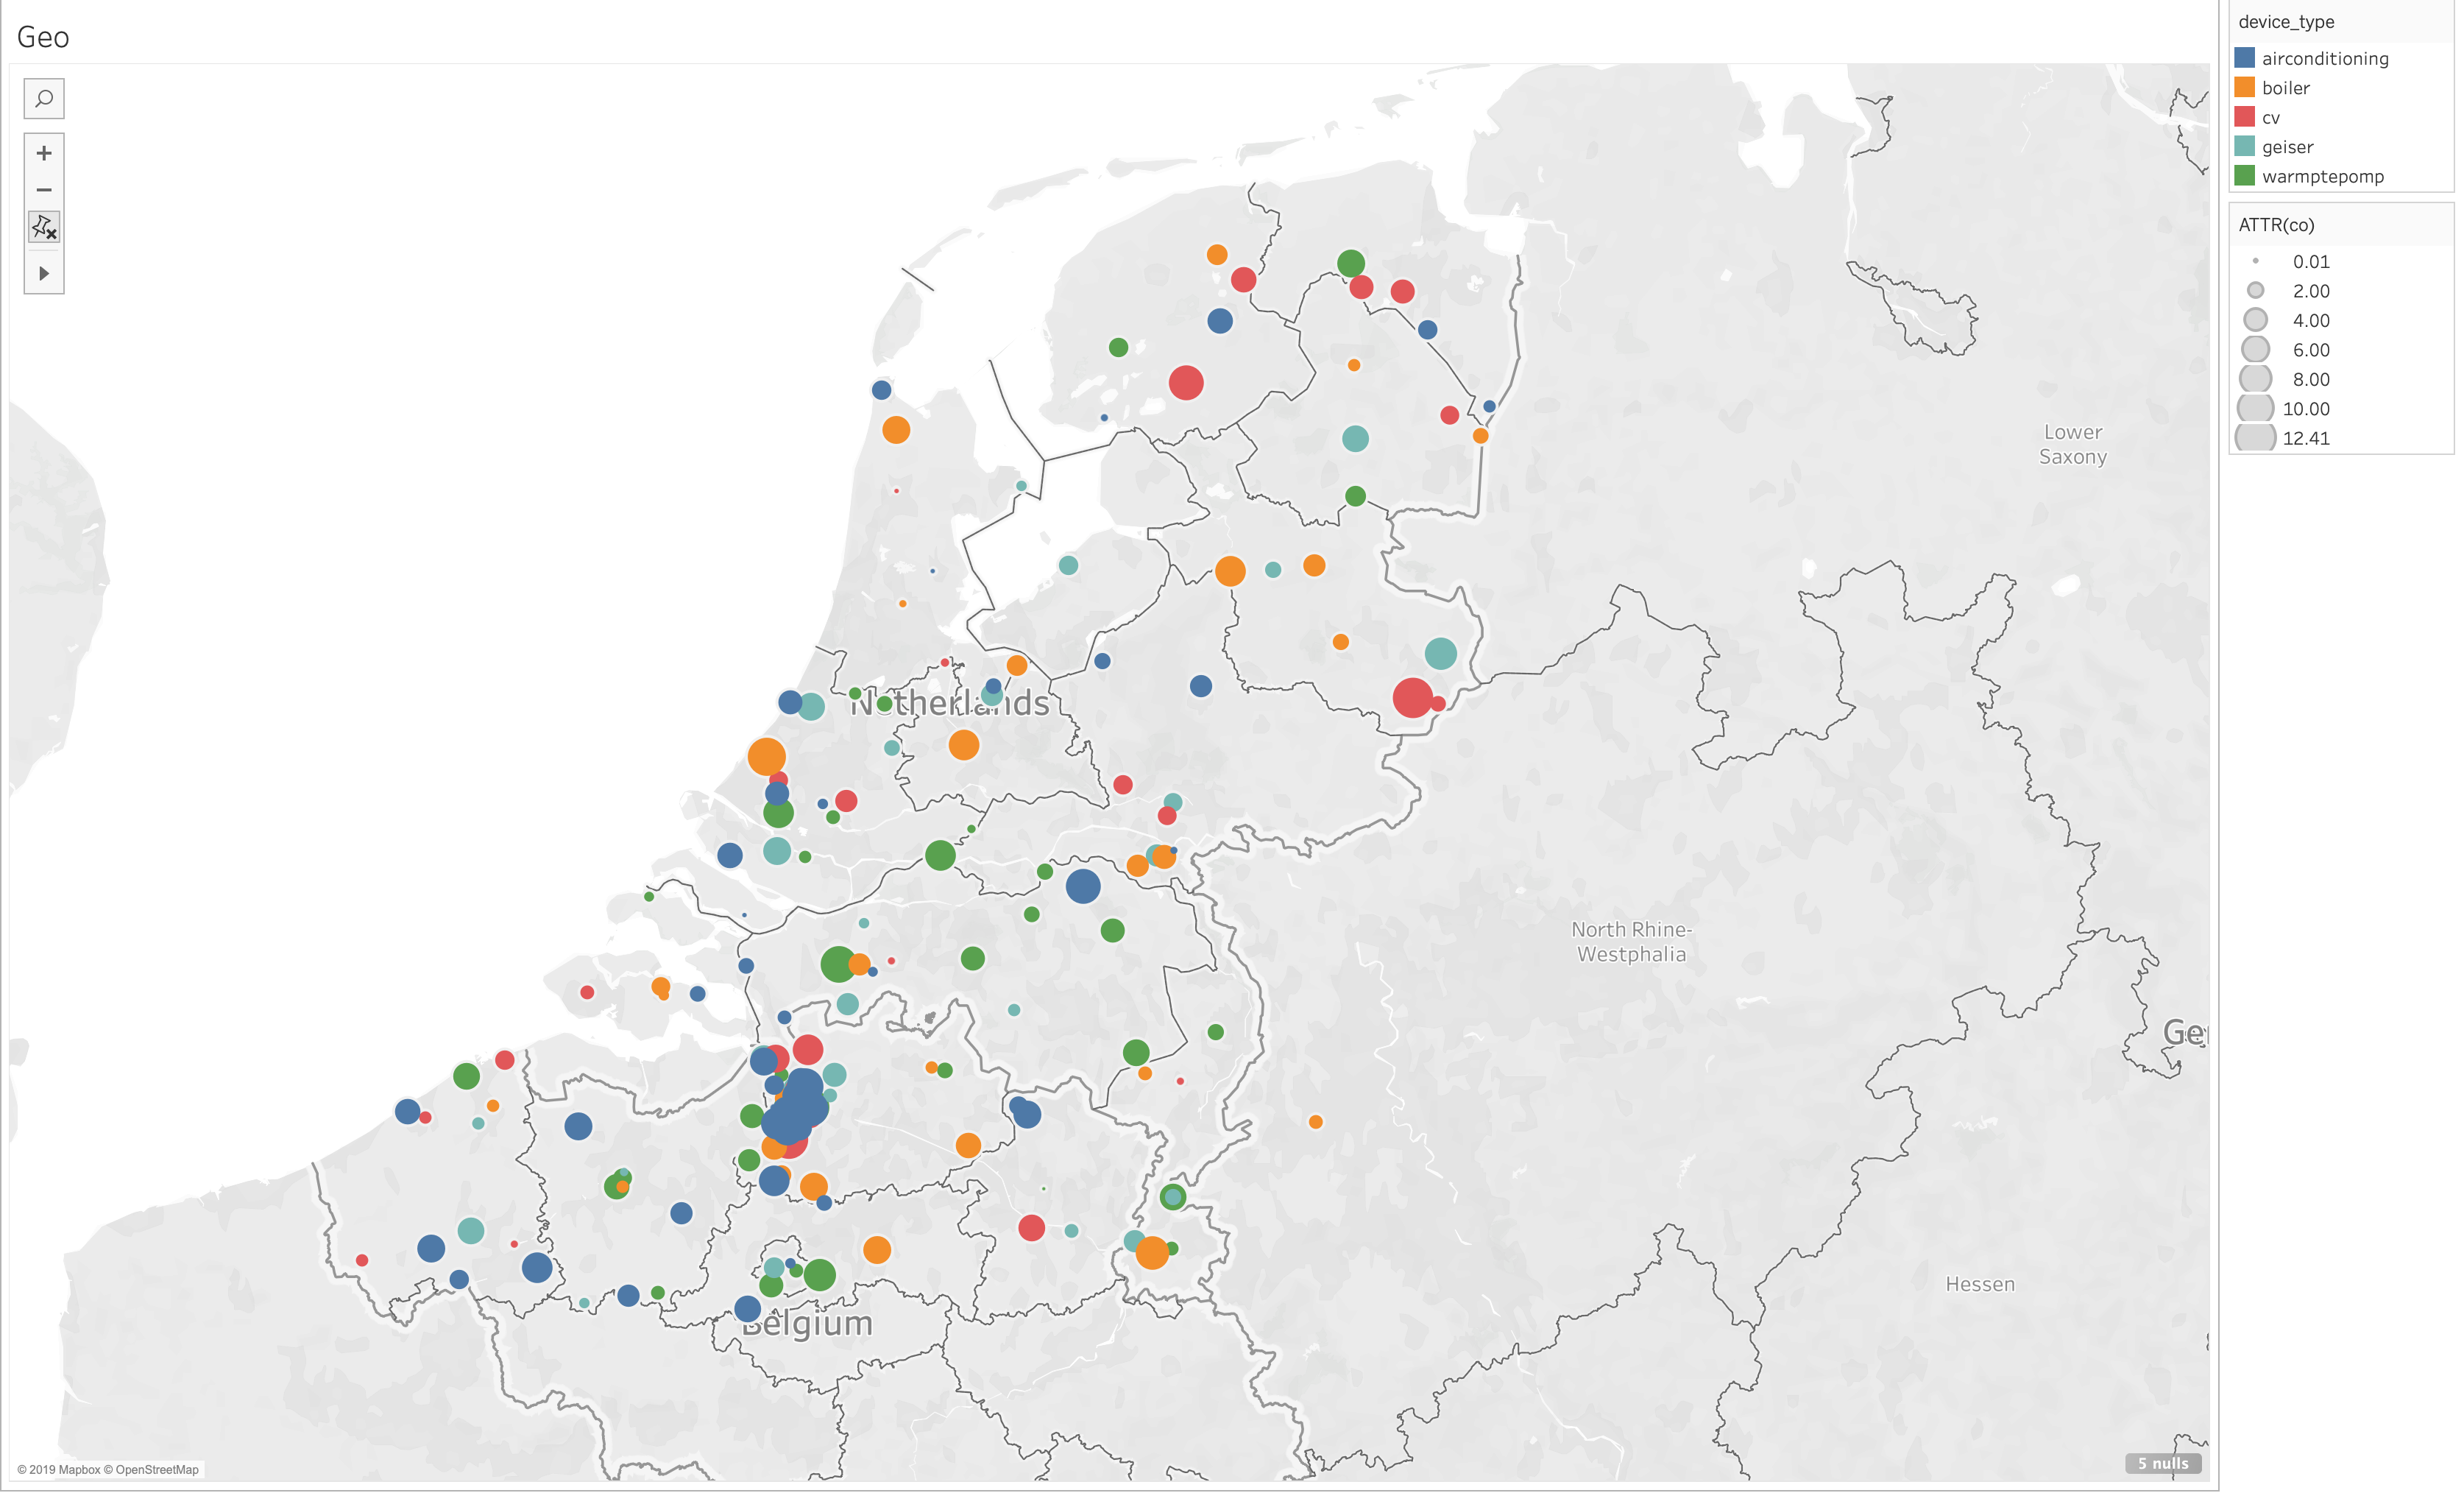

What the dashboard file says about the page in this screenshot:
{"tool":"tableau","page":{"name":"Dashboard 2","canvas":[1000,800],"ordinal":1},"visuals":[{"type":"worksheet","title":"Geo","mark":"Automatic","rows":["lat"],"cols":["lon"],"box":[8,8,824,784]},{"type":"legend","title":"Geo","param":"[federated.0q73m781cp3x6n17b7uxq1byab2f].[none:device_type:nk]","box":[832,8,160,126]},{"type":"legend","title":"Geo","param":"[federated.0q73m781cp3x6n17b7uxq1byab2f].[attr:co:qk]","box":[832,134,160,166]}]}

Visuals, with their boxes on the page's 1000x800 design canvas (x1, y1, x2, y2). These are canvas units, not pixel positions in the 2464x1493 screenshot, which may show the page scaled, cropped or inside an application window:
"Geo" worksheet: 8:8:832:792
"Geo" legend: 832:8:992:134
"Geo" legend: 832:134:992:300
